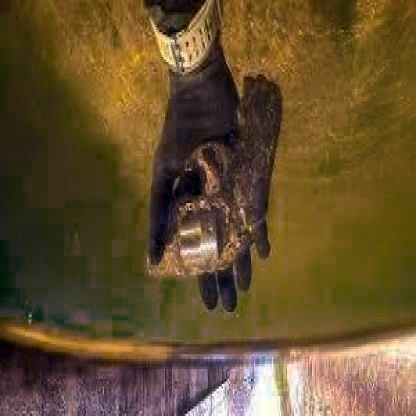misc: (146, 74, 284, 280)
